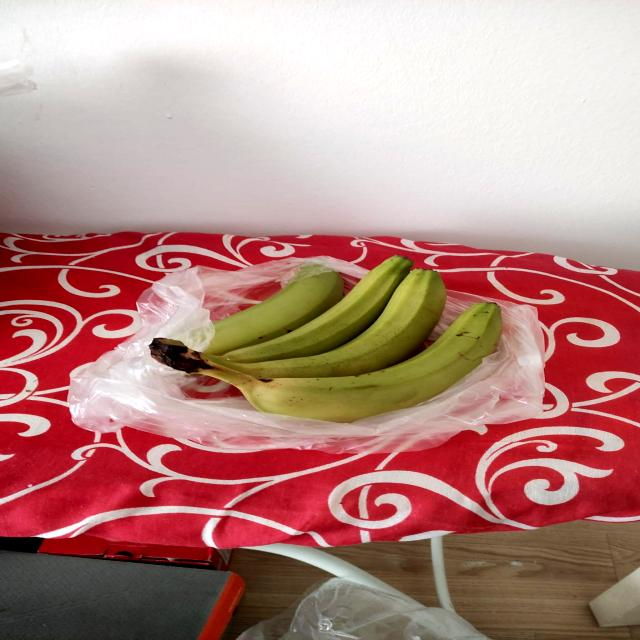banana: (141, 248, 529, 431), (144, 293, 529, 431)
